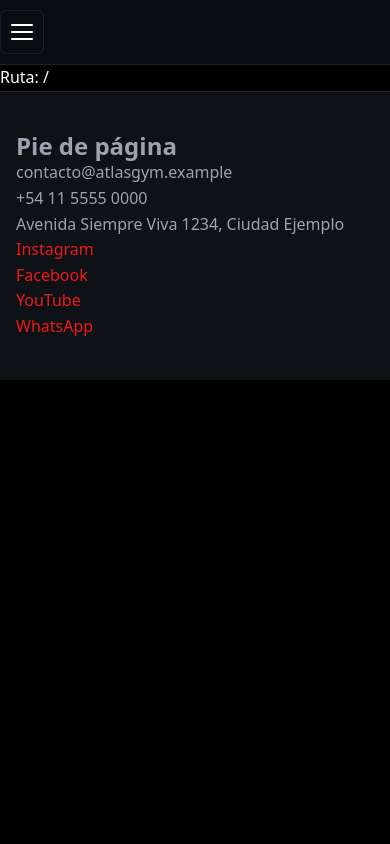
Menú móvil › Dado el menú cerrado en ancho móvil, Cuando el visitante activa el botón Menú, Entonces el atributo aria-expanded pasa a true
Click the button named "Menú". click: point(22, 32)
box: [0,10,44,54]
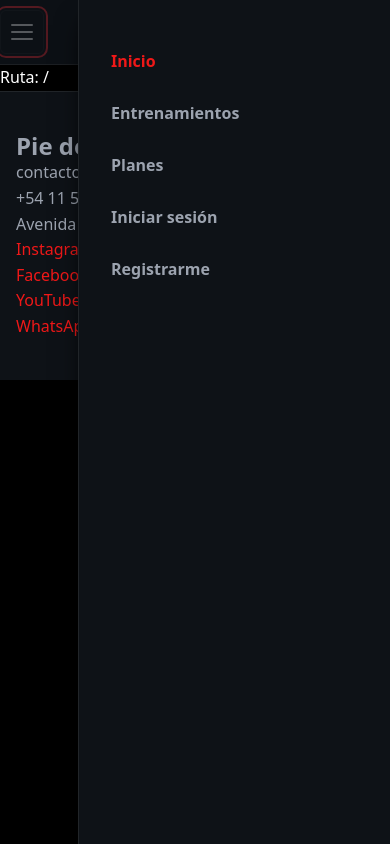
Result: the button named "Menú" is expanded at [0,10,44,54]
